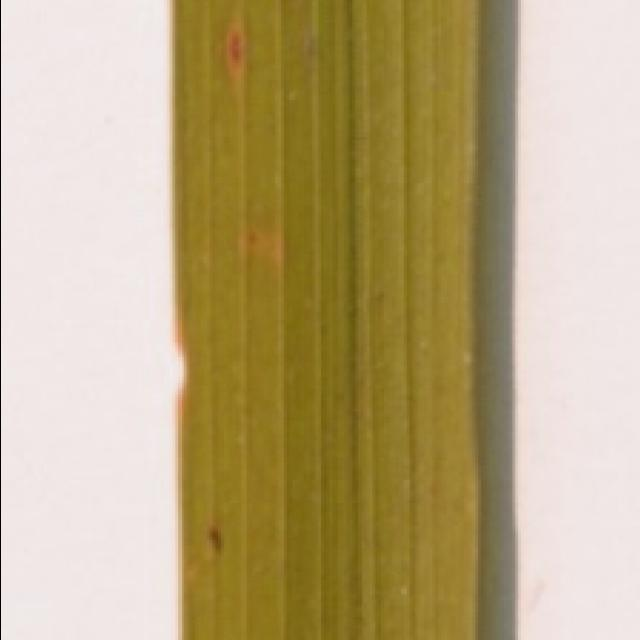Unhealthy: (219, 21, 249, 81), (202, 519, 227, 563)
